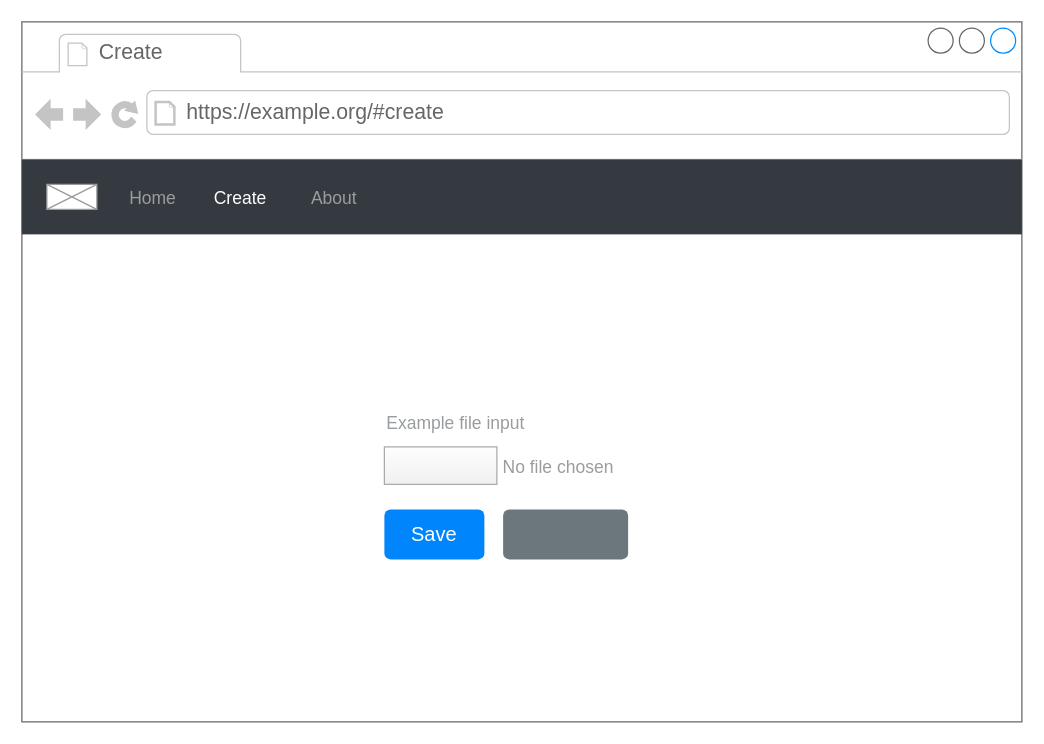
Some shapes in this 1044 by 744 pixel diagram are drawn without their labels. Here are the shapes that lost their labels. From the top down, the centre of each, then its label:
At pixel 440 465: "Choose File".
At pixel 565 534: "Cancel".
